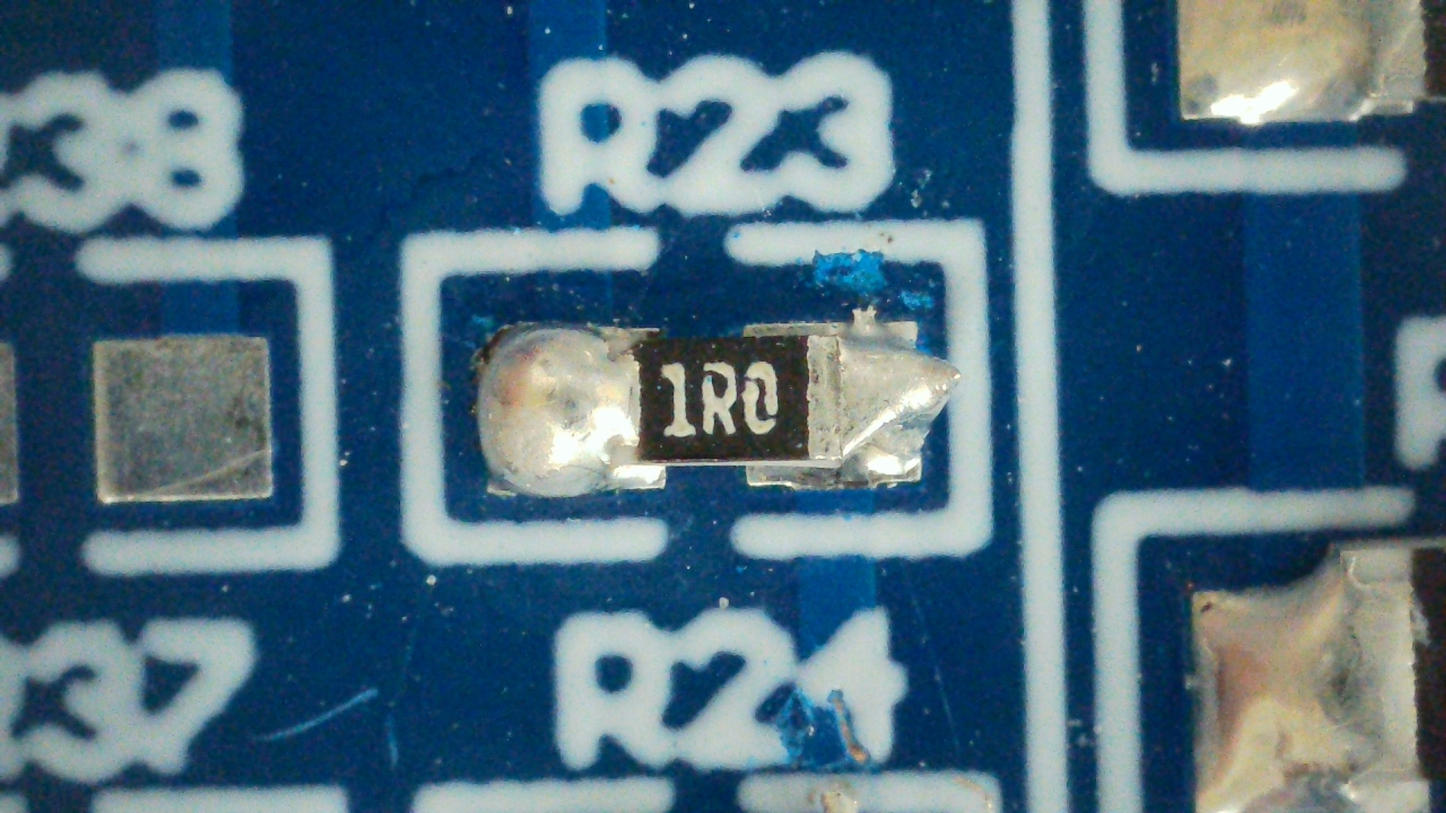OK: (475, 304, 959, 498)
